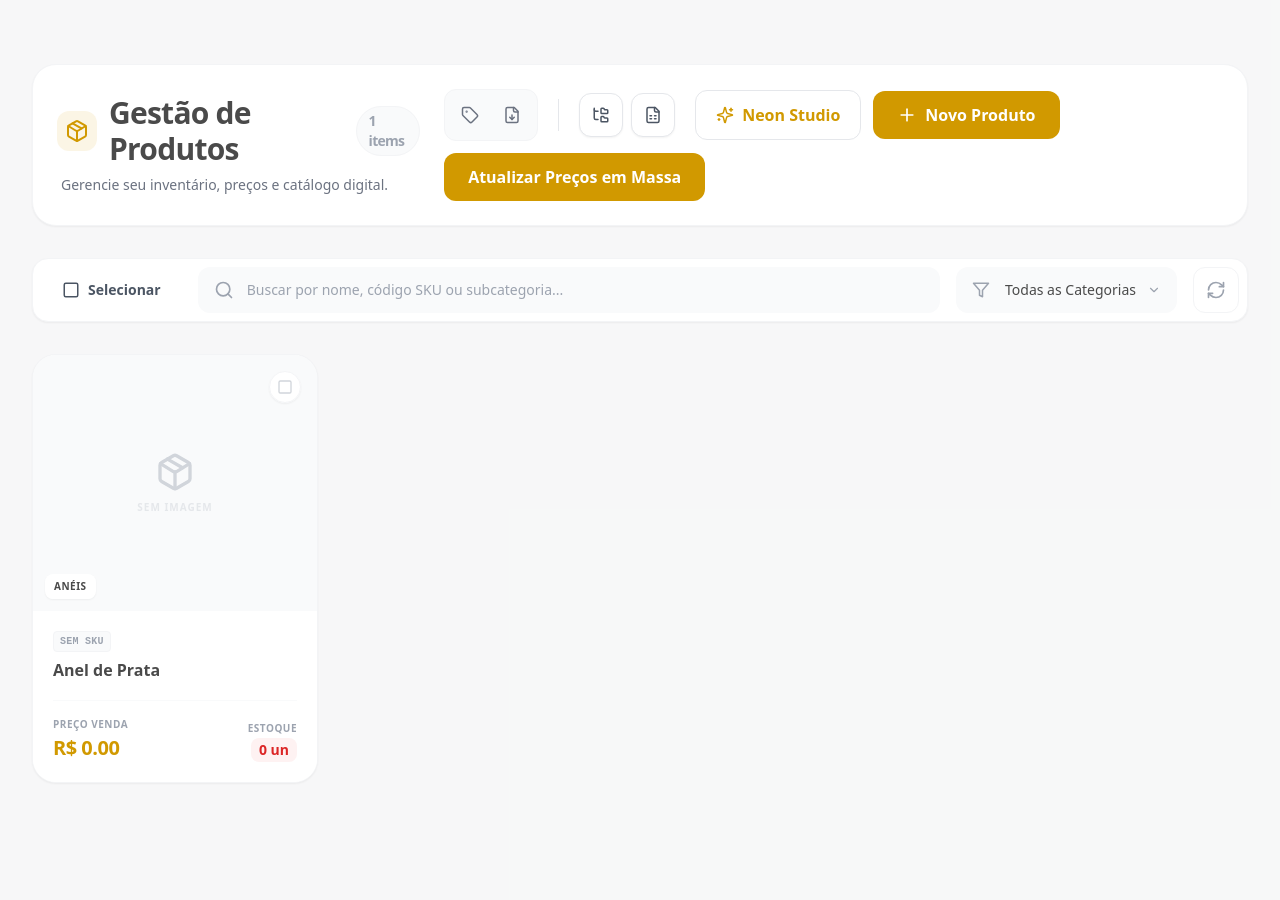
ProdutosPage › deve selecionar produtos individualmente e preparar para acoes em lote
The width and height of the screenshot is (1280, 900).
Expected: the heading "Anel de Prata" is shown, [53, 659, 160, 681]
Click the text "Anel de Prata" at x=107, y=656, box [53, 631, 160, 681]
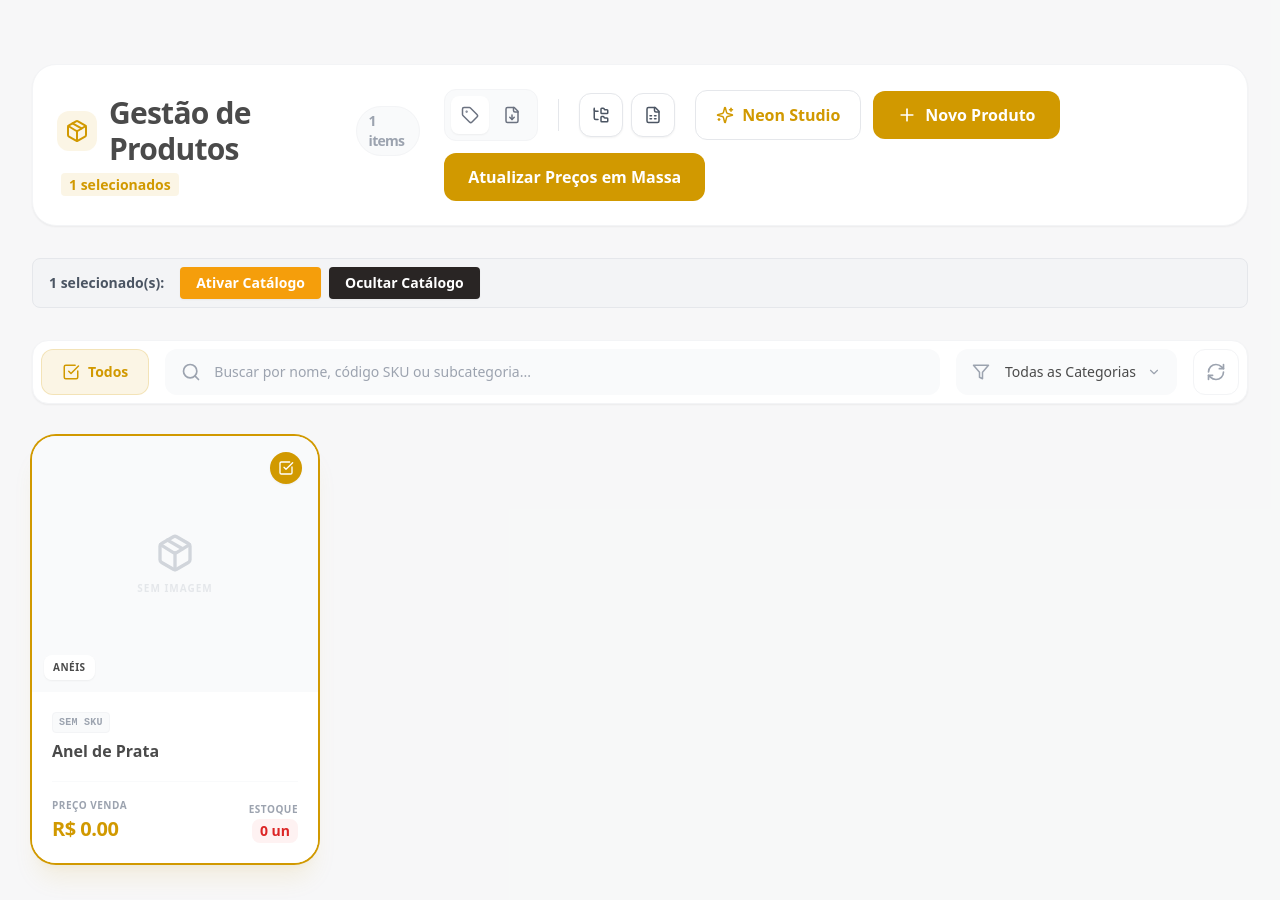
Expected: the text "1 selecionado(s):" is shown, [41, 273, 172, 293]
